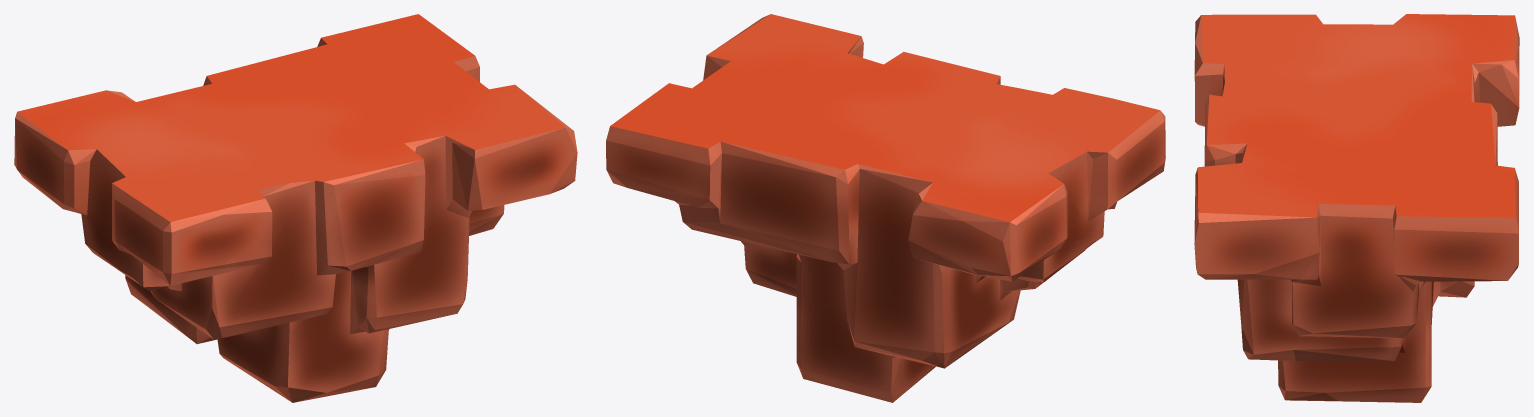
Rendered from Platform_2_3.fbx.
3 views of the same model, side by side, from view 1: azimuth 30°, elevation 25°; view 2: azimuth 150°, elevation 25°; view 3: azimuth 270°, elevation 25° (orthographic). The views are drawn at different scales.
Parts seen in each view (by area): view 1: Cube.042; view 2: Cube.042; view 3: Cube.042.
Boxes of the visible parts, bbox=[...] form: Cube.042: bbox=[14, 14, 577, 402]; Cube.042: bbox=[606, 14, 1165, 402]; Cube.042: bbox=[1194, 14, 1519, 402].
Bounding box in the file's own units: 300 × 178 × 200.
